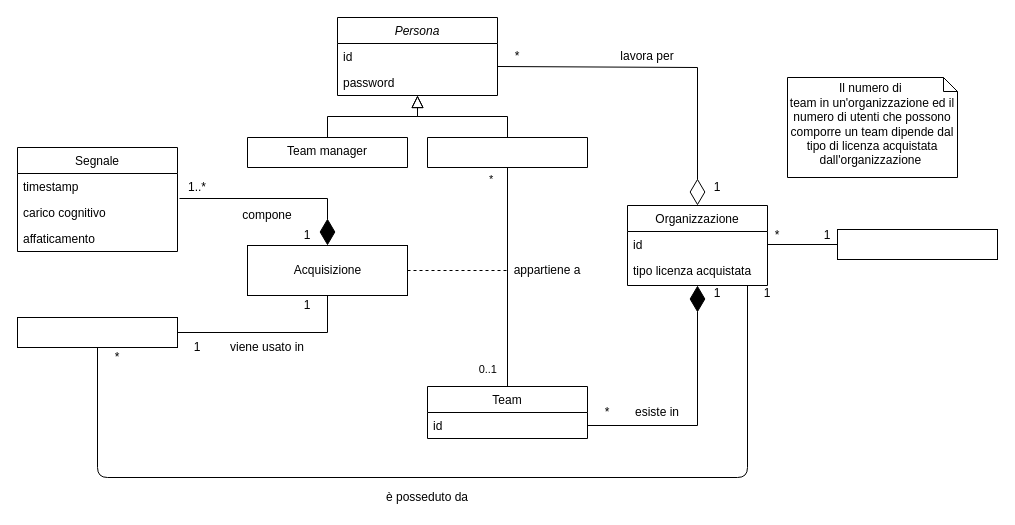
Image size: 1015x525. Some labels were removed from this diagram. Here are the shapes that lost their labels. From the top down, the centre of each, then its label:
At point 507,152: "Utente".
At point 917,244: "NeuroFrame".
At point 97,332: "Dispositivo di acquisizione".
